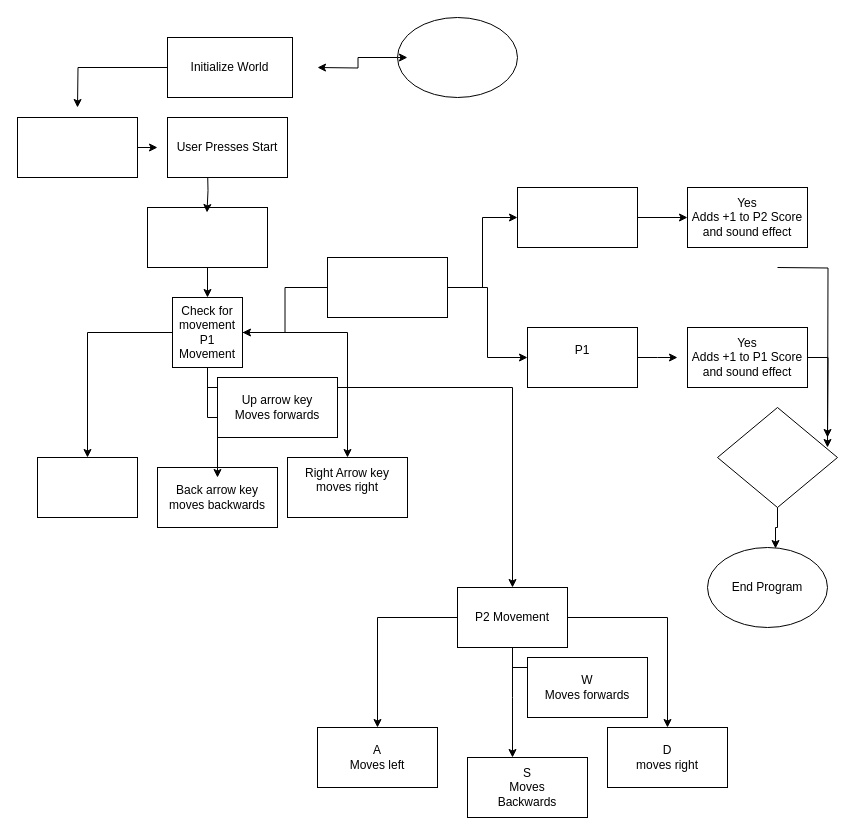
Image size: 855x835. Some labels were removed from this diagram. The centre of each missing label's shape, as x and y in pixels:
"Checks Gold Collision For P1 and P2" goes at point (387, 287).
"Generate Actors: Gold P1 P2" goes at point (77, 147).
"Intialize Score P1 Score = 0 P2 Score = 0" goes at point (207, 237).
"Is all gold gone?" goes at point (777, 457).
"Left Arrow key Moves left" goes at point (87, 487).
"P2" goes at point (577, 217).
"Program Start" goes at point (457, 57).
